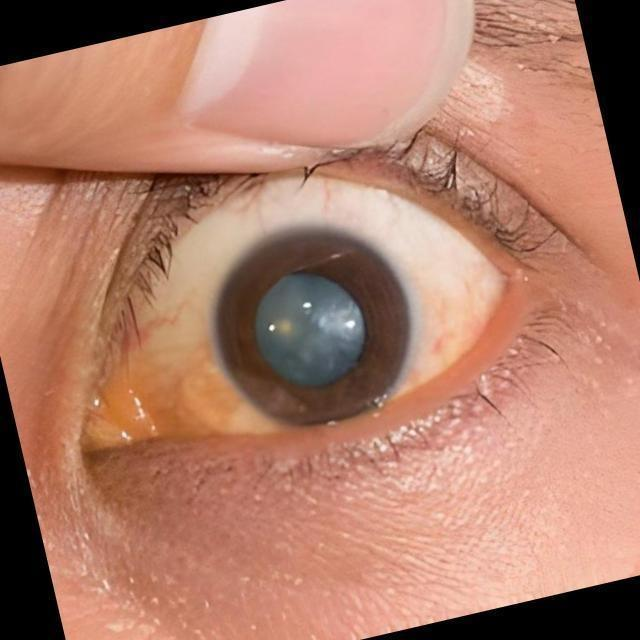Cataract: (192, 205, 426, 454)
